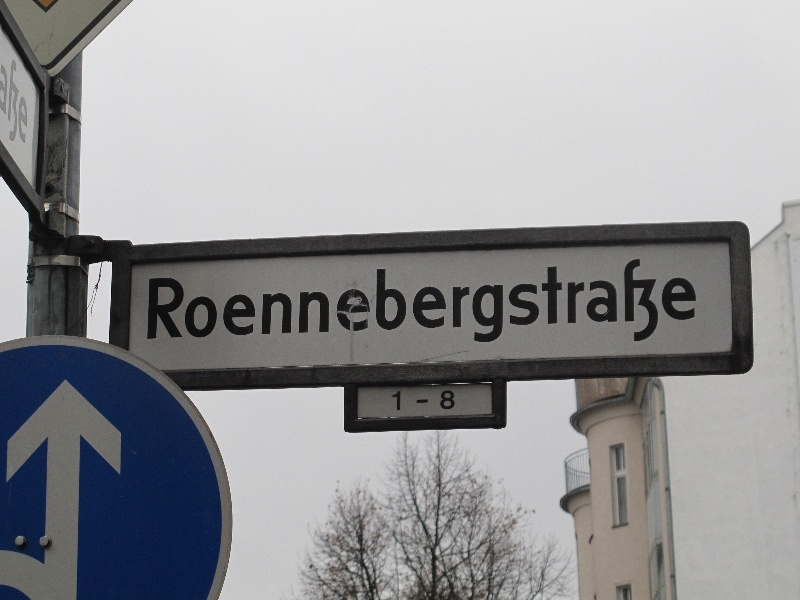text: (17, 35, 32, 165), (2, 35, 16, 165), (145, 254, 160, 357), (161, 254, 176, 357), (177, 254, 192, 357), (193, 254, 208, 357), (209, 254, 224, 357), (225, 254, 240, 357), (241, 254, 256, 357), (257, 254, 272, 357), (273, 254, 288, 357), (289, 254, 304, 357), (305, 254, 320, 357), (321, 254, 336, 357), (337, 254, 352, 357), (353, 254, 368, 357), (369, 254, 384, 357), (385, 254, 400, 357), (401, 254, 416, 357), (417, 254, 432, 357), (433, 254, 448, 357), (449, 254, 464, 357), (465, 254, 480, 357), (481, 254, 496, 357), (497, 254, 512, 357), (513, 254, 528, 357), (529, 254, 544, 357), (545, 254, 560, 357), (561, 254, 576, 357), (577, 254, 592, 357), (593, 254, 608, 357), (609, 254, 624, 357), (625, 254, 640, 357), (641, 254, 656, 357), (657, 254, 672, 357), (673, 254, 688, 357), (689, 254, 702, 357), (33, 35, 36, 165), (438, 388, 448, 413), (390, 390, 400, 413), (449, 388, 458, 413), (417, 396, 431, 406), (143, 254, 144, 357), (401, 390, 405, 413), (414, 396, 416, 406)
